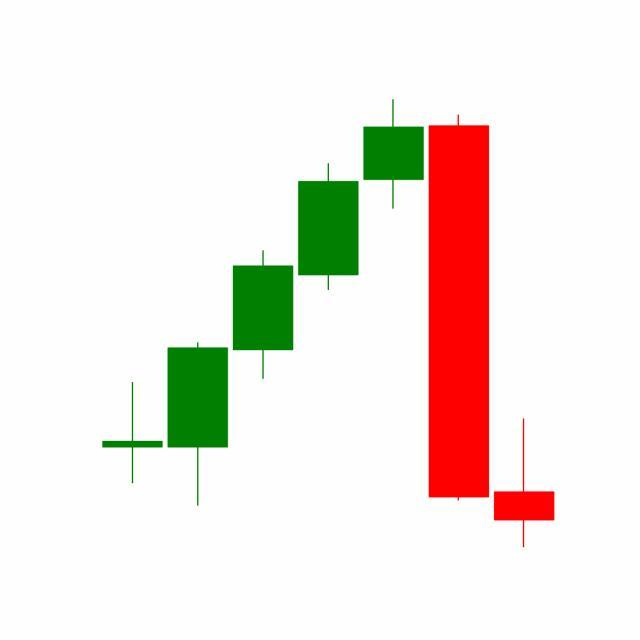Evening Star: (295, 100, 492, 507)
